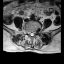CCS_stenosis: (31, 30, 32, 38)
LFS_normal: (34, 28, 36, 35)
LLS_normal: (32, 30, 34, 36)
RFS_normal: (27, 29, 29, 36)
RLS_normal: (29, 29, 31, 37)
